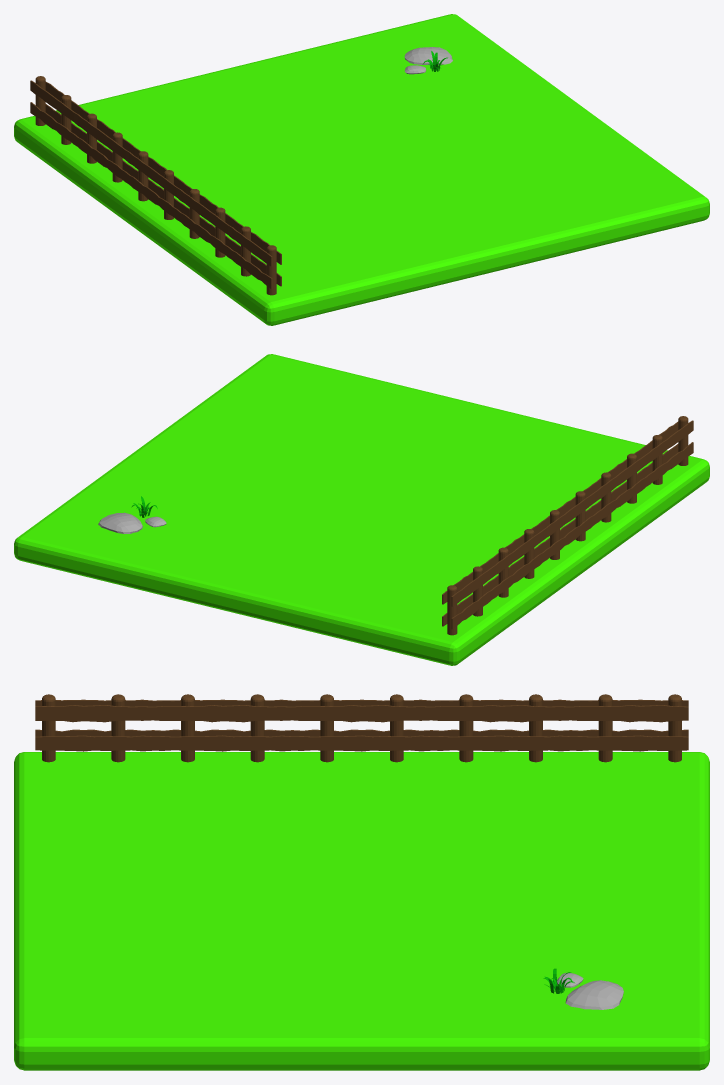
File: New 10x10 Platform.fbx
The picture shows the model from 3 angles, top to bottom: view 1: azimuth 30°, elevation 25°; view 2: azimuth 150°, elevation 25°; view 3: azimuth 270°, elevation 25°; orthographic projection. The views are drawn at different scales.
Visible parts, largest first — view 1: Platform, Fence, Big Rock; view 2: Platform, Fence, Big Rock; view 3: Platform, Fence, Big Rock.
Boxes of the visible parts, bbox=[...] form: Platform: bbox=[14, 14, 709, 325]; Fence: bbox=[30, 76, 281, 295]; Big Rock: bbox=[404, 47, 452, 64]; Platform: bbox=[14, 354, 709, 665]; Fence: bbox=[442, 416, 693, 635]; Big Rock: bbox=[98, 512, 142, 533]; Platform: bbox=[14, 752, 709, 1070]; Fence: bbox=[35, 694, 688, 762]; Big Rock: bbox=[565, 980, 623, 1009].
Size of the model in its own units: 1000 by 150 by 1000.
